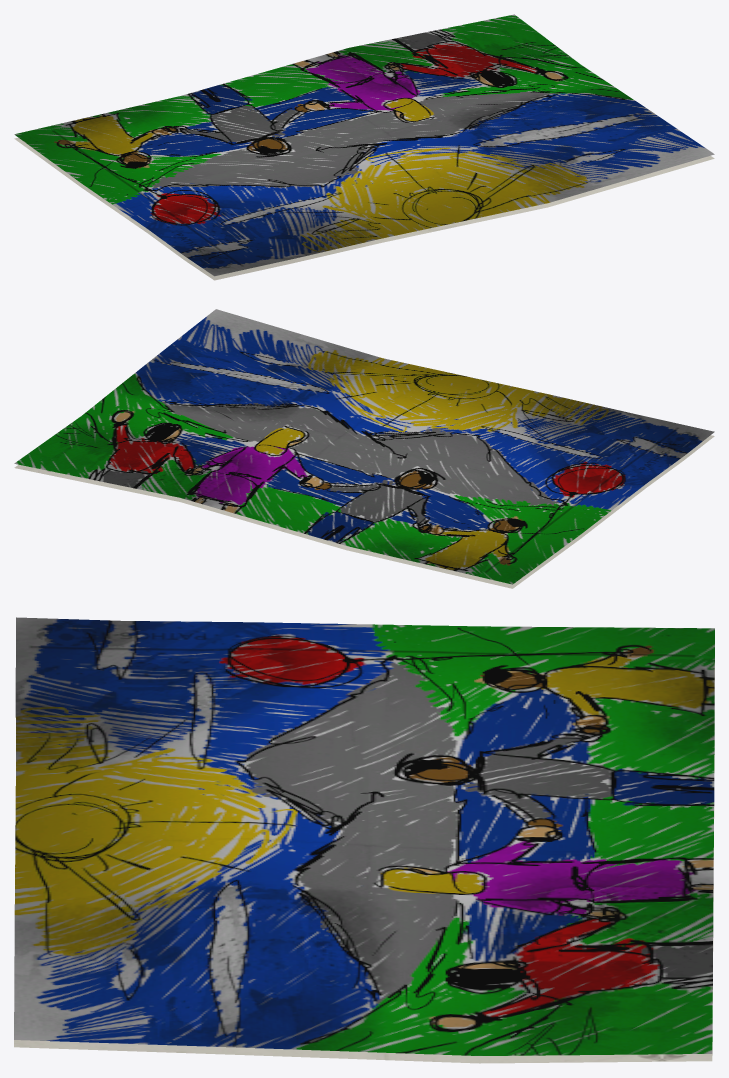
The model's file is 02_05_photo_bass_collage04.dae.
3 renders of one model, top to bottom at view 1: azimuth 30°, elevation 25°; view 2: azimuth 150°, elevation 25°; view 3: azimuth 270°, elevation 25°, orthographic. The views are drawn at different scales.
Visible parts, largest first — view 1: bass_collage04; view 2: bass_collage04; view 3: bass_collage04.
Boxes of the visible parts, x1,y1,x2,y2 form: bass_collage04: [14, 14, 714, 280]; bass_collage04: [14, 309, 714, 588]; bass_collage04: [14, 617, 714, 1063].
Bounding box in the file's own units: 35.12 × 1.31 × 24.54.
